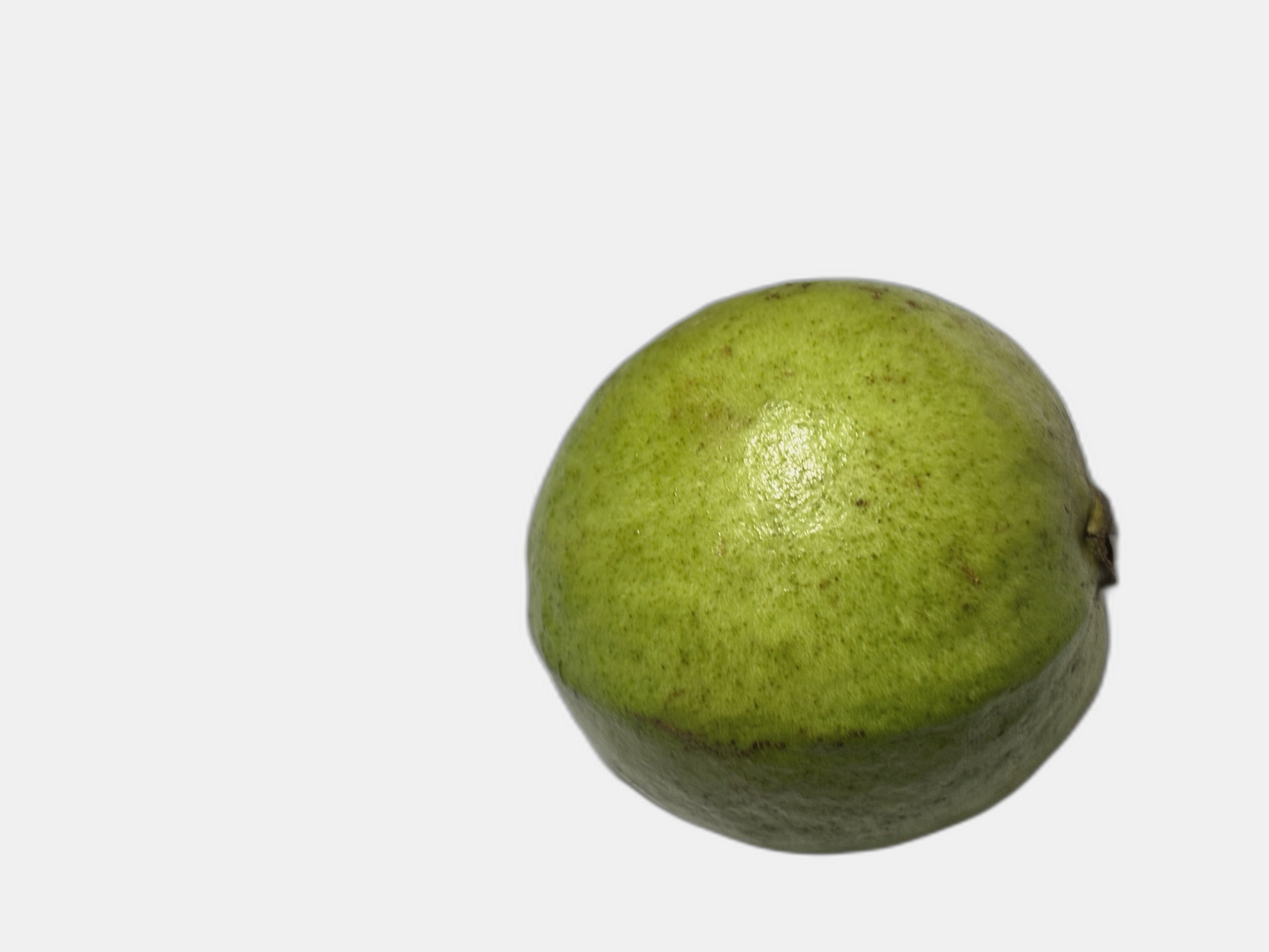guava: (200, 202, 1233, 825)
